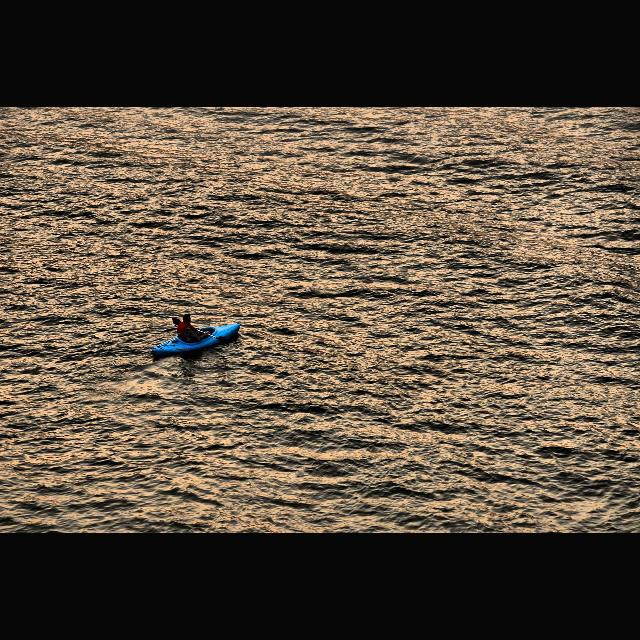kayak: (152, 322, 242, 358)
